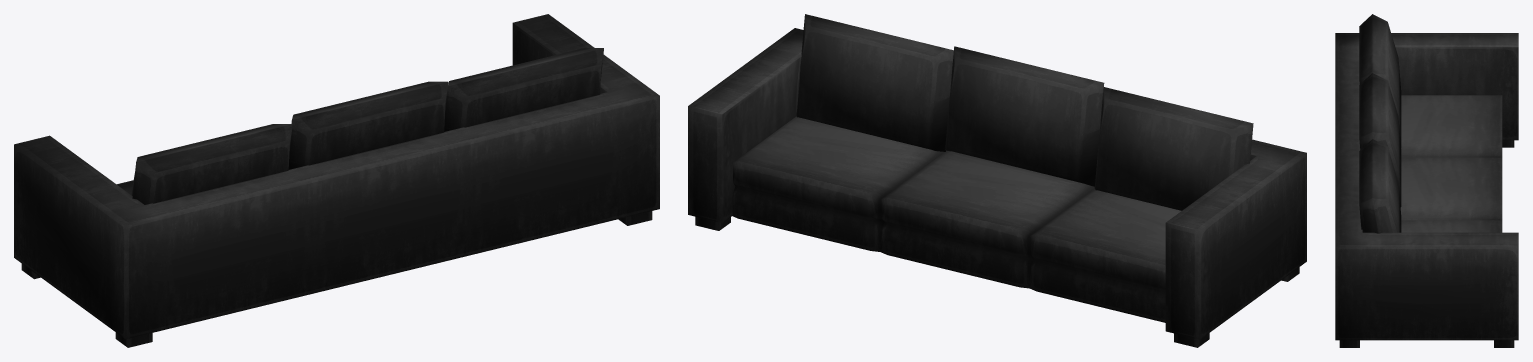
File: FUR0210034.fbx
3 views of the same model, side by side, from view 1: azimuth 30°, elevation 25°; view 2: azimuth 150°, elevation 25°; view 3: azimuth 270°, elevation 25° (orthographic). The views are drawn at different scales.
Visible parts, largest first — view 1: smFUR0210034; view 2: smFUR0210034; view 3: smFUR0210034.
Part boxes in pixels (x1,y1,x2,y2): smFUR0210034: (14, 14, 659, 347); smFUR0210034: (688, 14, 1306, 347); smFUR0210034: (1335, 14, 1518, 347).
Size of the model in its own units: 310 by 93.47 by 112.
1 material, 1 textured.
